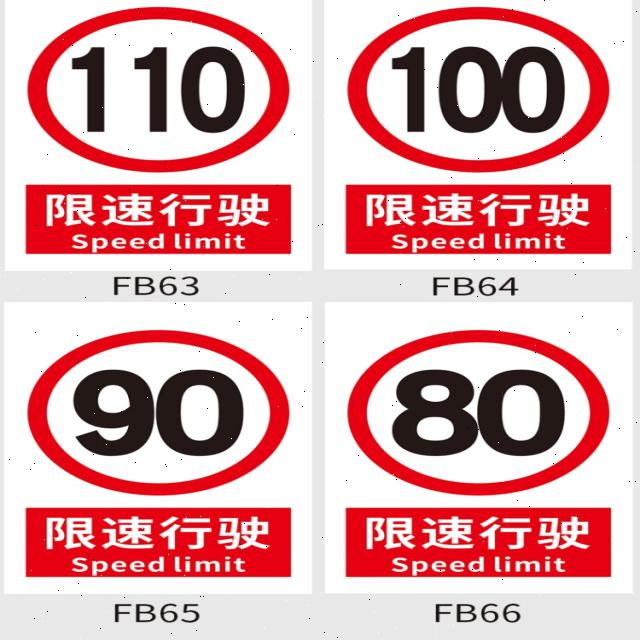speed limit 100: (344, 7, 613, 174)
speed limit 110: (27, 8, 289, 174)
speed limit 80: (344, 331, 608, 495)
speed limit 90: (25, 327, 292, 496)
